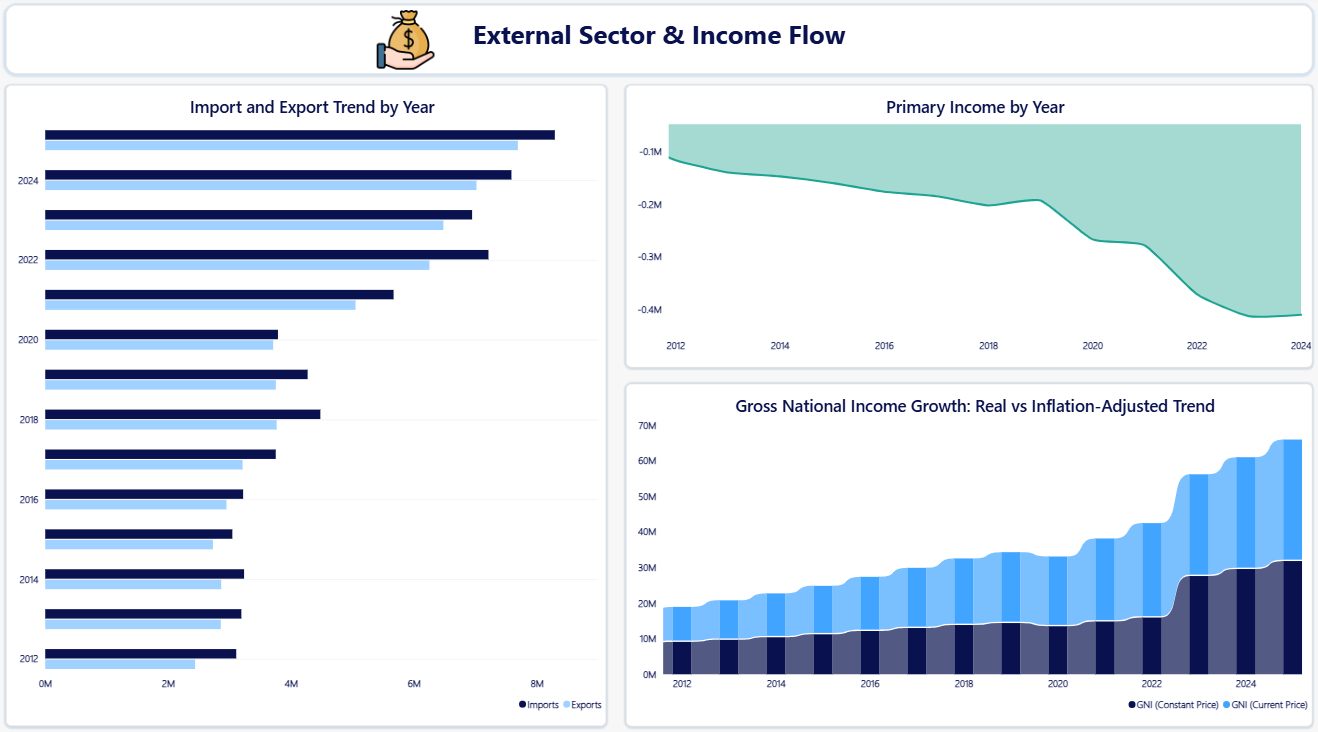

This screenshot's page, from the dashboard's own definition file:
{"tool":"powerbi","page":{"name":"Income Flow","canvas":[1920,1080],"ordinal":3},"visuals":[{"type":"textbox","box":[14.5,14.5,1891.1,99.5],"z":0},{"type":"image","box":[519.4,21.6,147.2,86.6],"z":1000},{"type":"clusteredBarChart","title":"Import and Export Trend by Year","fields":{"Category":["annual data.Year_1"],"Y":["annual data.Imports","annual data.Exports"]},"box":[14.5,130.3,868.6,928.4],"z":2000},{"type":"areaChart","title":"Primary Income by Year","fields":{"Category":["annual data.Year_1"],"Y":["annual data.Primary Income"]},"box":[912.1,130.3,993.5,409],"z":3000},{"type":"ribbonChart","title":"Gross National Income Growth: Real vs Inflation-Adjusted Trend","fields":{"Category":["annual data.Year_1"],"Y":["annual data.GNI (Constant Price)","annual data.GNI (Current Price)"]},"box":[912.1,562.8,993.5,495.8],"z":4000}]}

Visuals, with their boxes in screenshot pixels (x1, y1, x2, y2), scaled from the page's 1920x1080 canvas onto the 1318x732 screenshot:
textbox: (left=10, top=10, right=1308, bottom=77)
image: (left=357, top=15, right=458, bottom=73)
"Import and Export Trend by Year" clusteredBarChart: (left=10, top=88, right=606, bottom=718)
"Primary Income by Year" areaChart: (left=626, top=88, right=1308, bottom=366)
"Gross National Income Growth: Real vs Inflation-Adjusted Trend" ribbonChart: (left=626, top=381, right=1308, bottom=717)
